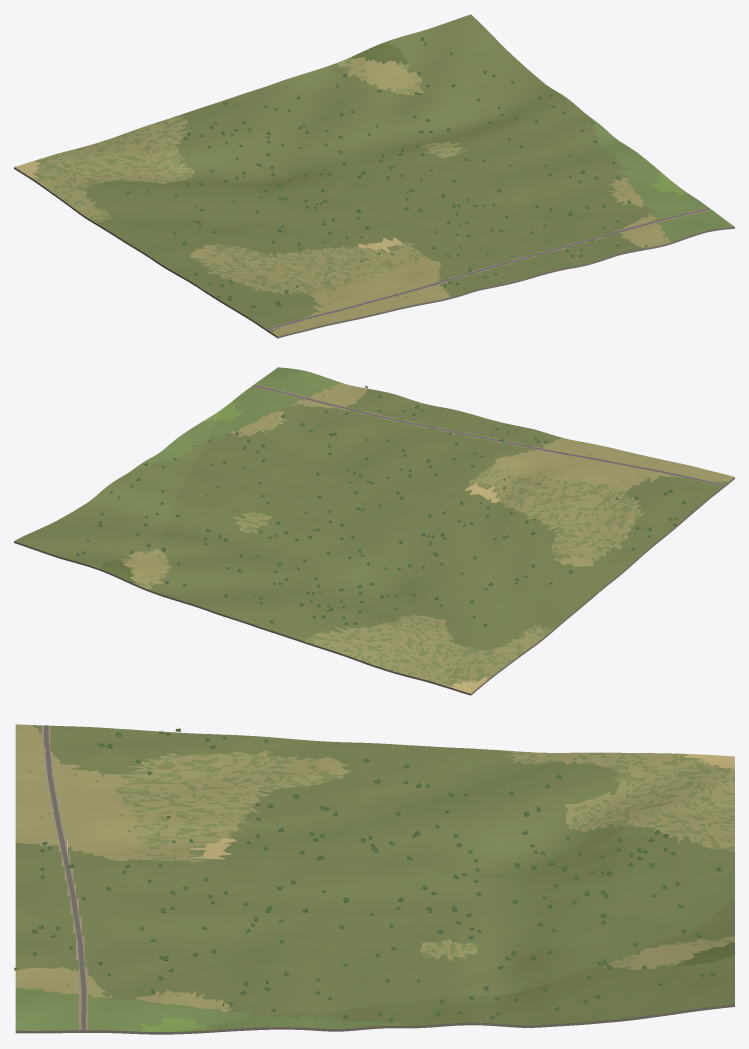
File: parca_+5_-2-yakin.glb
3 views of the same model, one above another, from view 1: azimuth 30°, elevation 25°; view 2: azimuth 150°, elevation 25°; view 3: azimuth 270°, elevation 25° (orthographic). The views are drawn at different scales.
Visible parts, largest first — view 1: parca_+5_-2_arazi, parca_+5_-2_bitkiler, parca_+5_-2_yollar; view 2: parca_+5_-2_arazi, parca_+5_-2_bitkiler, parca_+5_-2_yollar; view 3: parca_+5_-2_arazi, parca_+5_-2_bitkiler, parca_+5_-2_yollar.
Part boxes in pixels (x1=…): parca_+5_-2_arazi: x1=14, y1=14, x2=734, y2=338; parca_+5_-2_bitkiler: x1=40, y1=37, x2=654, y2=315; parca_+5_-2_yollar: x1=266, y1=208, x2=710, y2=329; parca_+5_-2_arazi: x1=14, y1=367, x2=734, y2=695; parca_+5_-2_bitkiler: x1=54, y1=385, x2=685, y2=674; parca_+5_-2_yollar: x1=253, y1=385, x2=724, y2=486; parca_+5_-2_arazi: x1=15, y1=724, x2=734, y2=1034; parca_+5_-2_bitkiler: x1=14, y1=728, x2=722, y2=1023; parca_+5_-2_yollar: x1=44, y1=725, x2=86, y2=1030.
Bounding box in the file's own units: 1003 × 89.97 × 1002.
